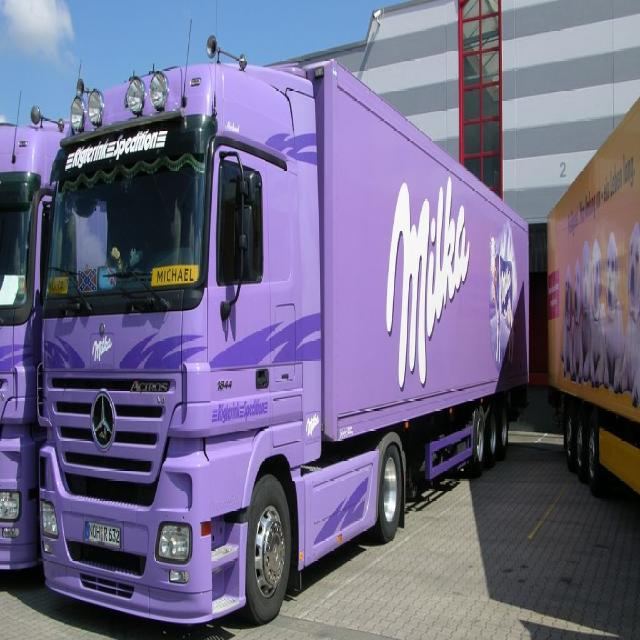milka: (385, 172, 477, 397), (89, 332, 114, 364)
